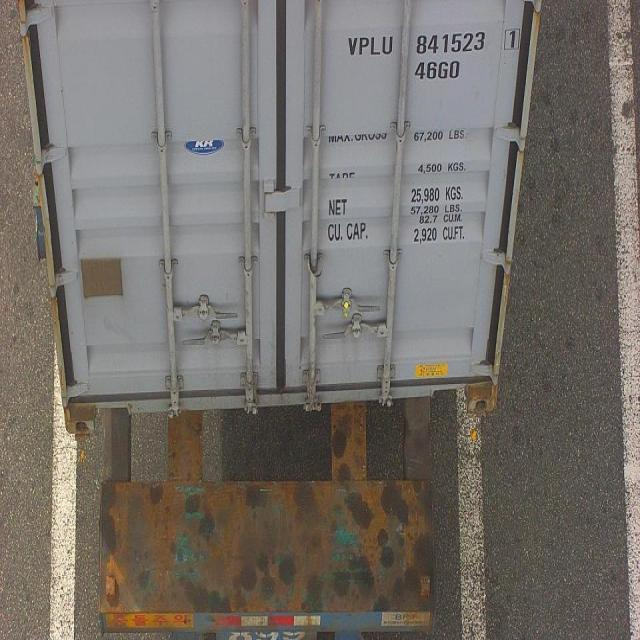ISO: (415, 60, 462, 80)
container_number: (350, 30, 513, 55)
